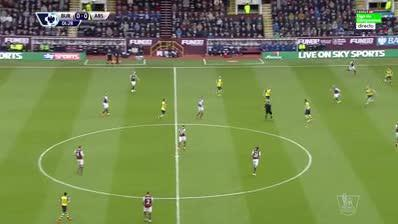player: (140, 188, 159, 223), (56, 190, 76, 223), (72, 143, 90, 179), (249, 144, 265, 179), (302, 98, 316, 129), (361, 83, 378, 108), (175, 122, 189, 152), (101, 89, 113, 119), (127, 69, 140, 96), (157, 96, 170, 123), (194, 96, 207, 122), (330, 84, 344, 106), (383, 65, 395, 90), (214, 73, 226, 97), (344, 57, 359, 76), (264, 85, 274, 101), (392, 118, 397, 149)
referree: (263, 99, 276, 123)
